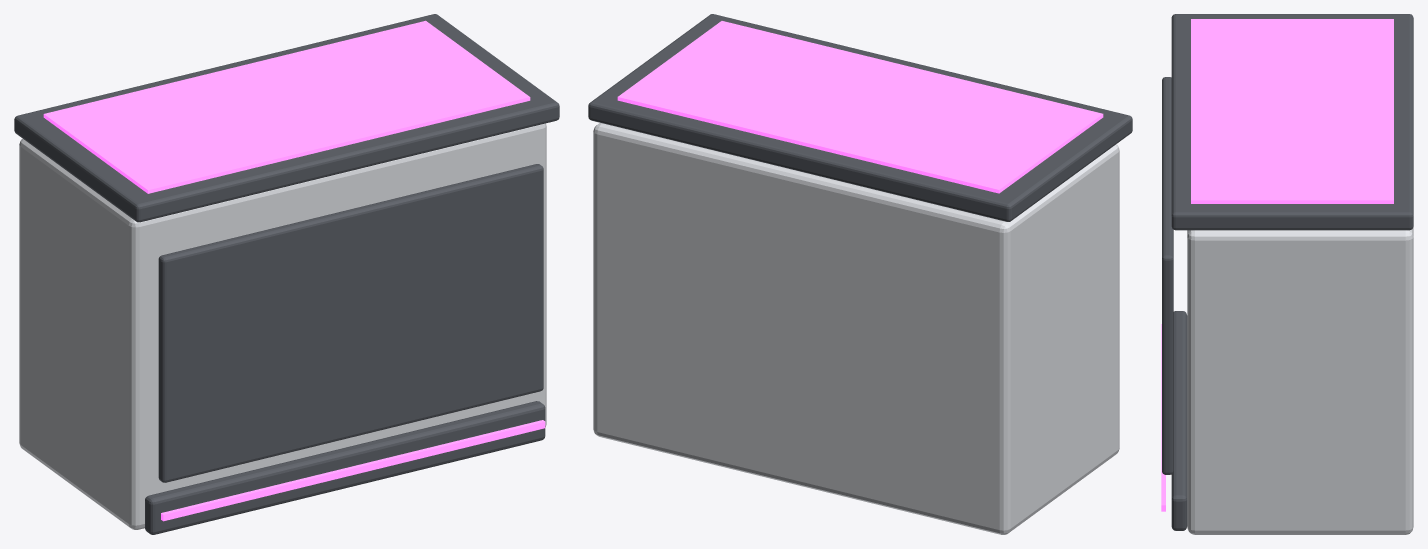
Rendered from kitchen_counter_island_block.glb.
3 views of the same model, side by side, from view 1: azimuth 30°, elevation 25°; view 2: azimuth 150°, elevation 25°; view 3: azimuth 270°, elevation 25° (orthographic). The views are drawn at different scales.
Parts seen in each view (by area): view 1: GD_kitchen_counter_island_block__m1, GD_kitchen_counter_island_block__m0, GD_kitchen_counter_island_block__m2; view 2: GD_kitchen_counter_island_block__m0, GD_kitchen_counter_island_block__m2, GD_kitchen_counter_island_block__m1; view 3: GD_kitchen_counter_island_block__m0, GD_kitchen_counter_island_block__m2, GD_kitchen_counter_island_block__m1.
Boxes of the visible parts, <box> form: GD_kitchen_counter_island_block__m1: <box>14,14,559,534</box>; GD_kitchen_counter_island_block__m0: <box>19,123,546,529</box>; GD_kitchen_counter_island_block__m2: <box>43,20,545,521</box>; GD_kitchen_counter_island_block__m0: <box>593,122,1119,534</box>; GD_kitchen_counter_island_block__m2: <box>617,21,1103,193</box>; GD_kitchen_counter_island_block__m1: <box>588,14,1132,221</box>; GD_kitchen_counter_island_block__m0: <box>1187,227,1413,534</box>; GD_kitchen_counter_island_block__m2: <box>1161,19,1393,511</box>; GD_kitchen_counter_island_block__m1: <box>1162,14,1413,530</box>.
Bounding box in the file's own units: 1.22 × 0.93 × 0.646.
